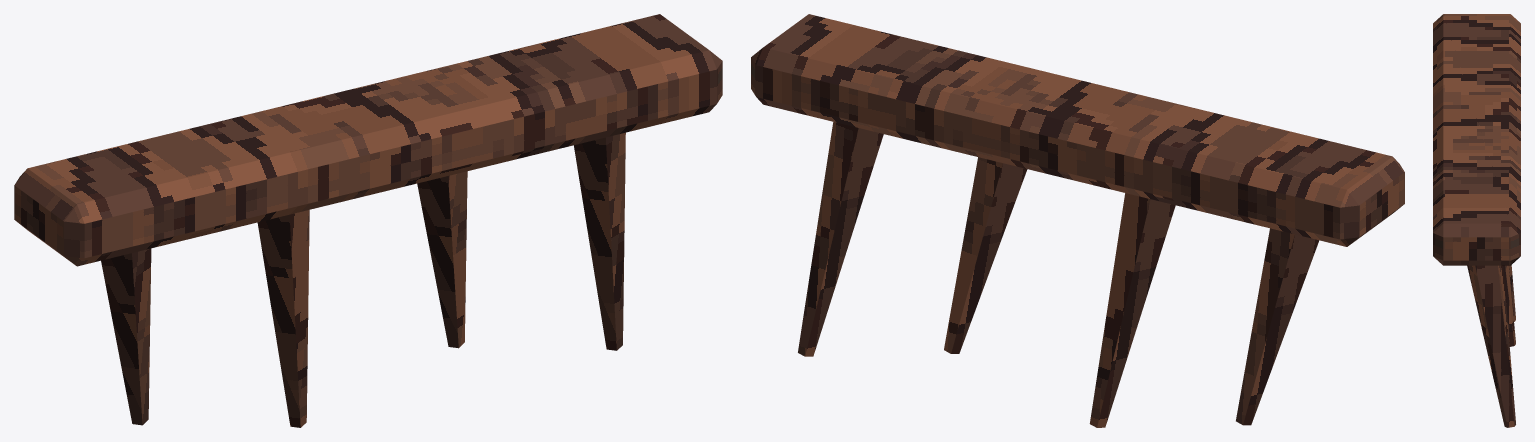
The model's file is beira_reta.fbx.
The picture shows the model from 3 angles, left to right: view 1: azimuth 30°, elevation 25°; view 2: azimuth 150°, elevation 25°; view 3: azimuth 270°, elevation 25°; orthographic projection. The views are drawn at different scales.
Visible parts, largest first — view 1: pedreira_beira_reta; view 2: pedreira_beira_reta; view 3: pedreira_beira_reta.
Boxes of the visible parts, x1,y1,x2,y2 form: pedreira_beira_reta: (14, 14, 722, 427); pedreira_beira_reta: (751, 14, 1404, 427); pedreira_beira_reta: (1433, 14, 1520, 427).
Size of the model in its own units: 100 by 46.71 by 17.
Materials: 1 (1 with a texture image).
